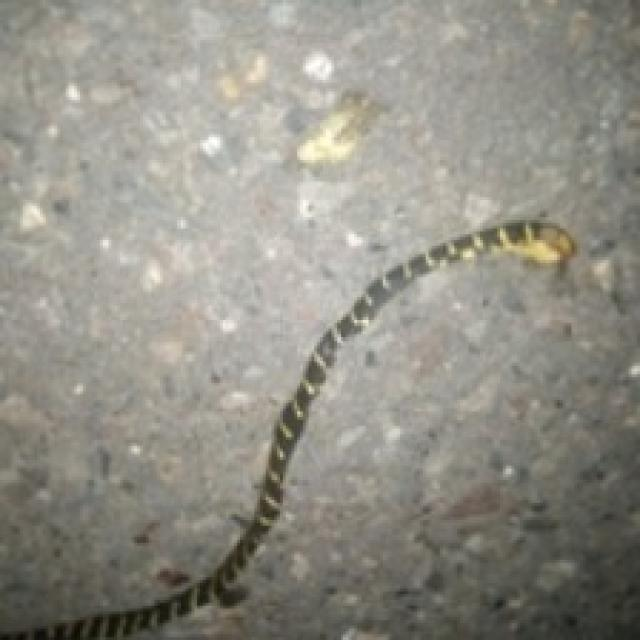mangrove cat snake: (0, 220, 574, 637)
